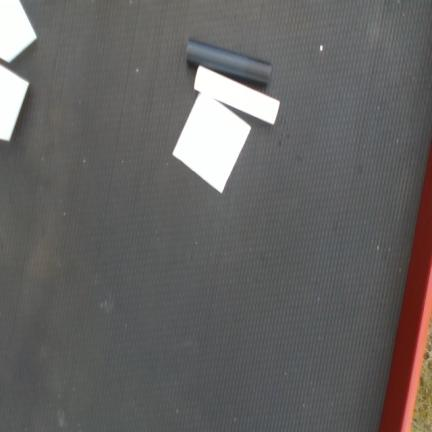Cilindro: (194, 64, 280, 125), (186, 39, 272, 86)
Paralelepipedo: (0, 0, 38, 62)
Piramide: (171, 92, 252, 194)
Prisma_hexagonal: (0, 65, 30, 141)
